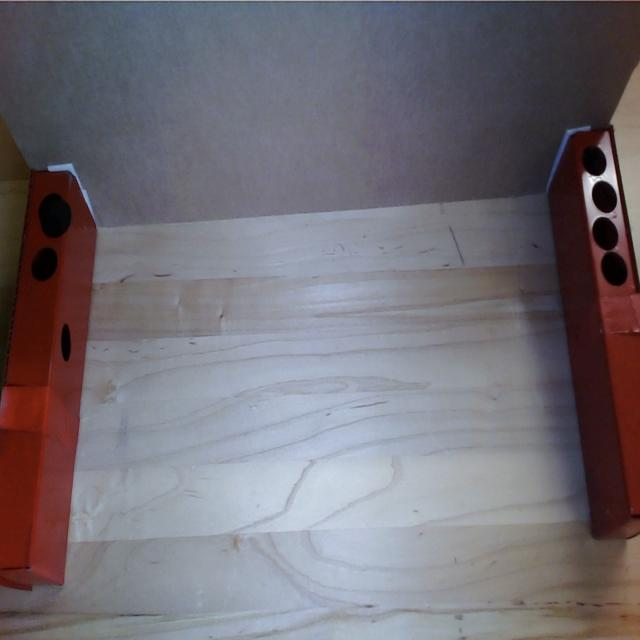Hole: (29, 246, 59, 286), (579, 140, 608, 178), (599, 252, 629, 286), (591, 216, 620, 251), (591, 179, 618, 214), (36, 191, 62, 227), (58, 319, 77, 365)
Sticker: (43, 198, 72, 239)
